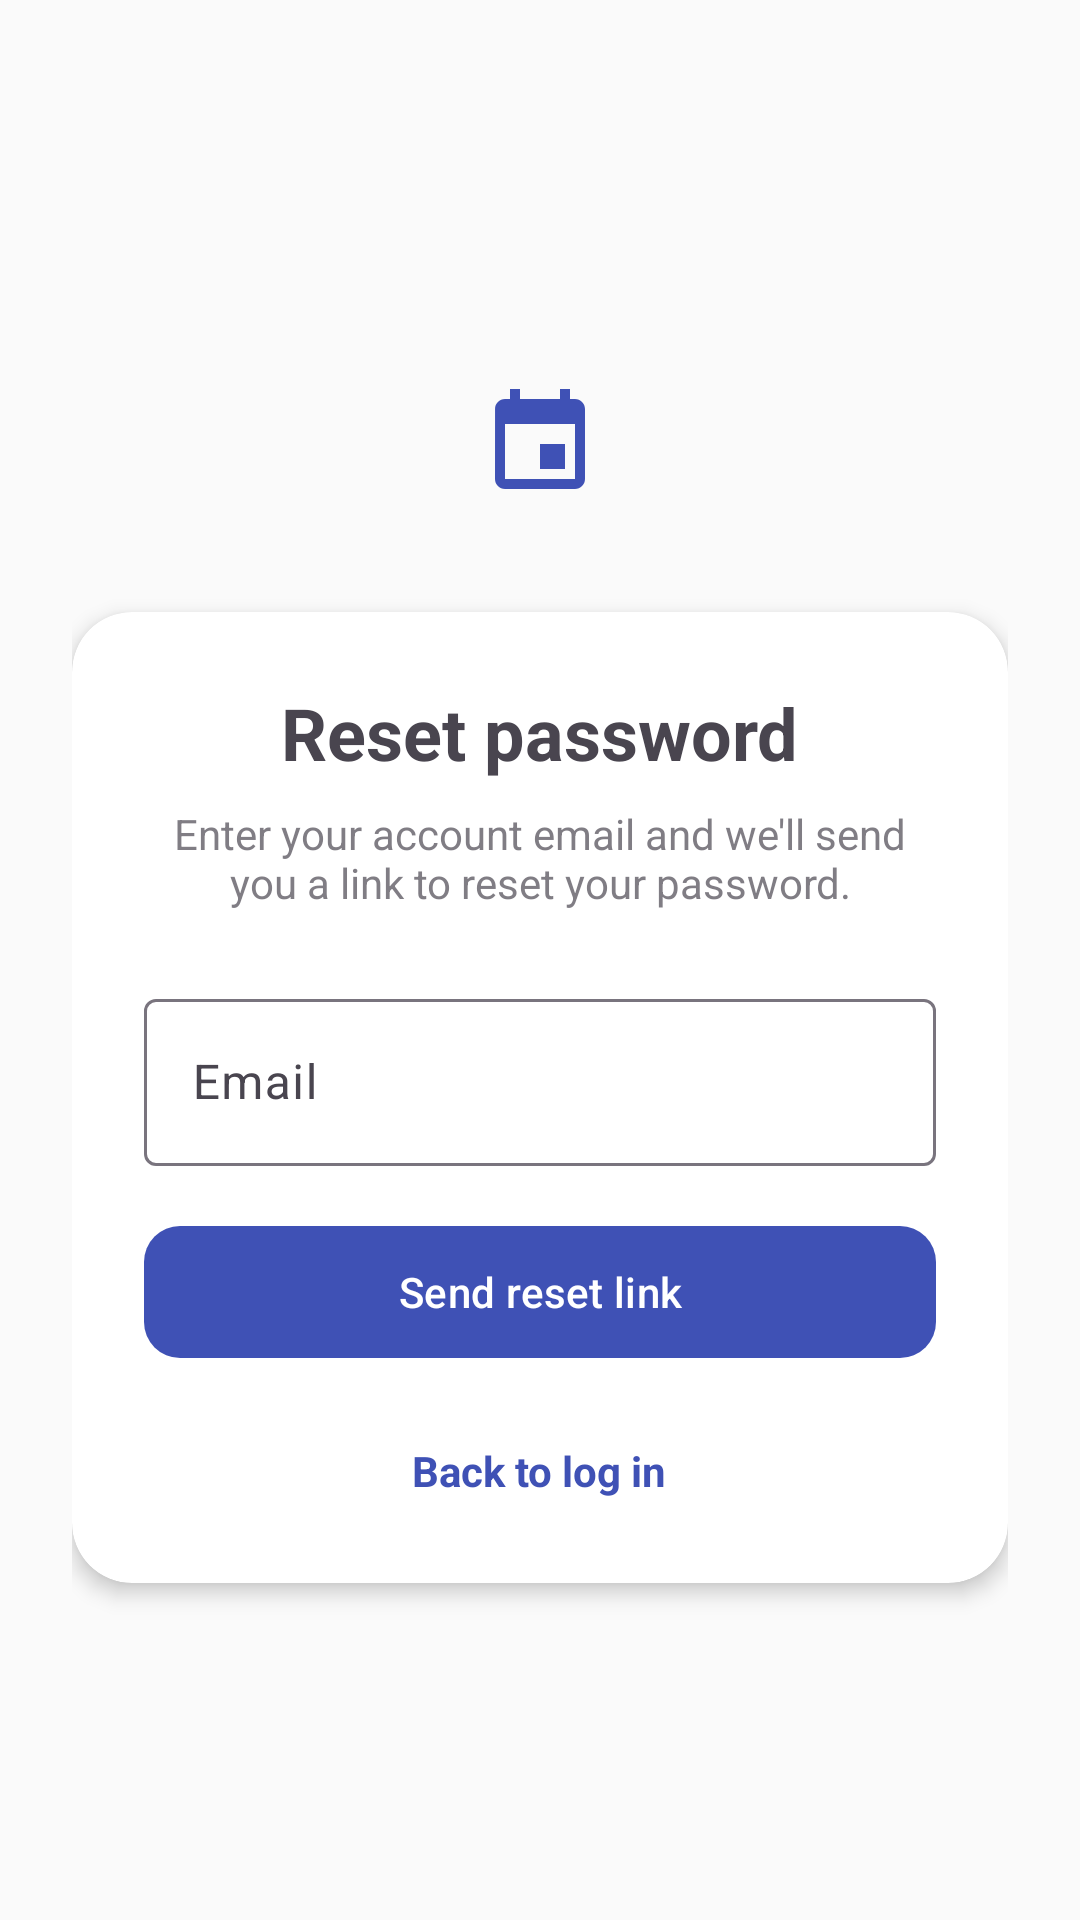

Icon click points for this 1080w x 1920h phone screenshot, format point (x, y):
event stat: point (540, 439)
